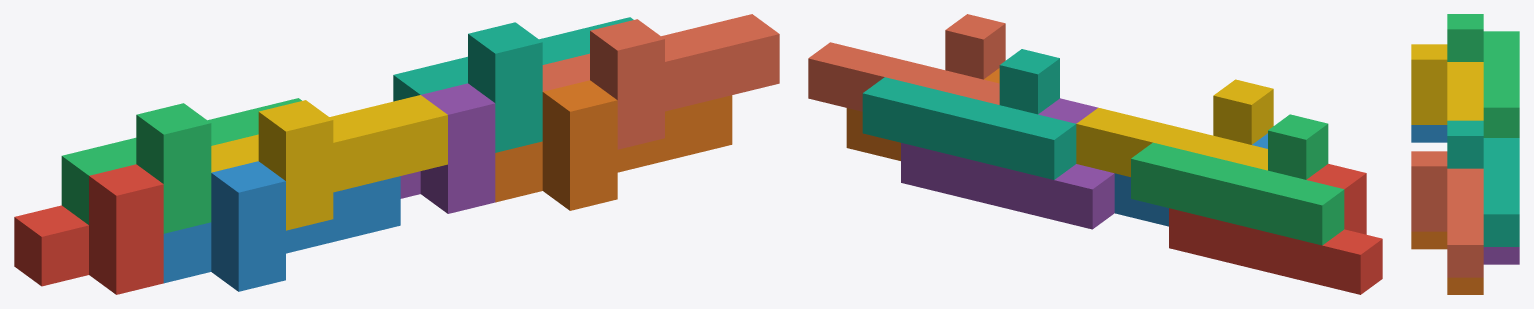
The model's file is tiling.obj.
3 renders of one model, left to right at view 1: azimuth 30°, elevation 25°; view 2: azimuth 150°, elevation 25°; view 3: azimuth 270°, elevation 25°, orthographic. The views are drawn at different scales.
Parts seen in each view (by area): view 1: copy_1_domain_8, copy_1_domain_4, copy_1_domain_6, copy_1_domain_2, copy_1_domain_1, copy_1_domain_3, copy_1_domain_7, copy_1_domain_5; view 2: copy_1_domain_7, copy_1_domain_3, copy_1_domain_1, copy_1_domain_5, copy_1_domain_4, copy_1_domain_8, copy_1_domain_6, copy_1_domain_2; view 3: copy_1_domain_8, copy_1_domain_7, copy_1_domain_3, copy_1_domain_4, copy_1_domain_6, copy_1_domain_2, copy_1_domain_5.
Boxes of the visible parts, x1=… form: copy_1_domain_8: x1=542, y1=14, x2=779, y2=149; copy_1_domain_4: x1=211, y1=95, x2=447, y2=230; copy_1_domain_6: x1=495, y1=80, x2=732, y2=210; copy_1_domain_2: x1=163, y1=161, x2=400, y2=291; copy_1_domain_1: x1=14, y1=164, x2=163, y2=294; copy_1_domain_3: x1=61, y1=98, x2=301, y2=233; copy_1_domain_7: x1=393, y1=17, x2=633, y2=152; copy_1_domain_5: x1=400, y1=83, x2=495, y2=213; copy_1_domain_7: x1=862, y1=49, x2=1076, y2=179; copy_1_domain_3: x1=1131, y1=114, x2=1344, y2=245; copy_1_domain_1: x1=1169, y1=164, x2=1382, y2=294; copy_1_domain_5: x1=901, y1=98, x2=1114, y2=229; copy_1_domain_4: x1=1076, y1=79, x2=1273, y2=176; copy_1_domain_8: x1=808, y1=14, x2=1005, y2=111; copy_1_domain_6: x1=846, y1=68, x2=999, y2=160; copy_1_domain_2: x1=1114, y1=133, x2=1267, y2=226; copy_1_domain_8: x1=1411, y1=151, x2=1483, y2=277; copy_1_domain_7: x1=1447, y1=120, x2=1519, y2=246; copy_1_domain_3: x1=1447, y1=14, x2=1519, y2=137; copy_1_domain_4: x1=1411, y1=44, x2=1483, y2=124; copy_1_domain_6: x1=1411, y1=231, x2=1483, y2=294; copy_1_domain_2: x1=1411, y1=125, x2=1447, y2=142; copy_1_domain_5: x1=1483, y1=247, x2=1519, y2=264.
Bounding box in the file's own units: 15 × 3 × 3.
